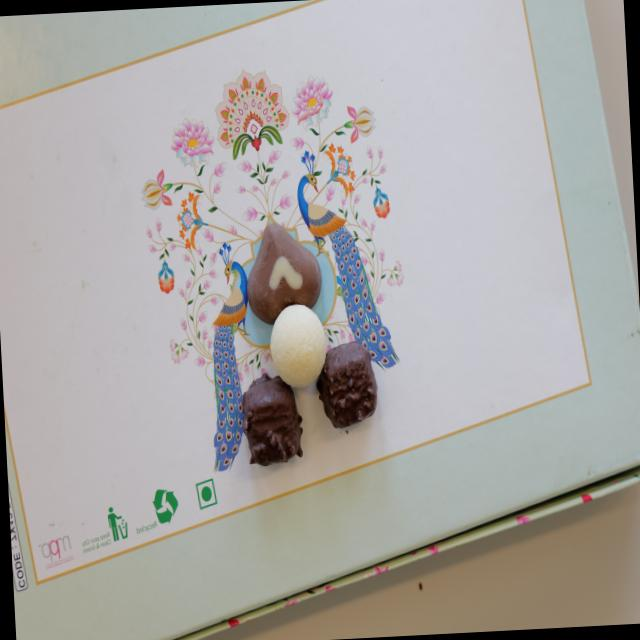Comtesse: (268, 304, 330, 389)
Passion_au_lait: (244, 213, 325, 324)
Tentation_noir: (319, 338, 380, 430), (243, 376, 304, 466)
